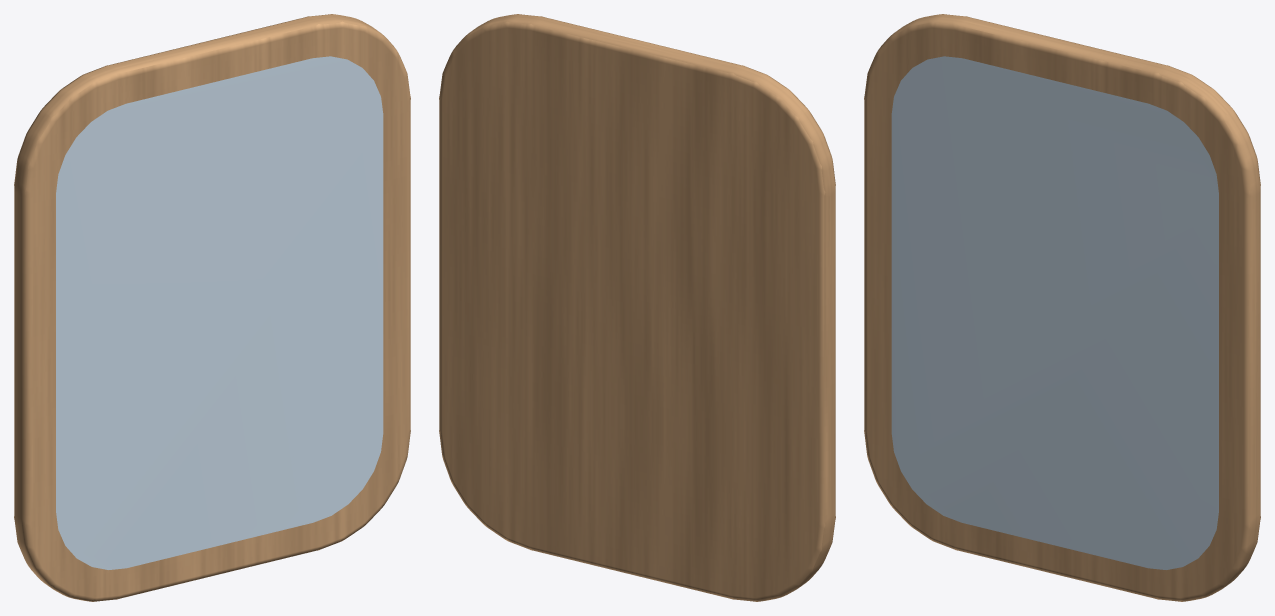
Rendered from prop_mirror.glb.
3 renders of one model, left to right at view 1: azimuth 30°, elevation 25°; view 2: azimuth 150°, elevation 25°; view 3: azimuth 330°, elevation 25°, orthographic.
Parts seen in each view (by area): view 1: prop_mirror; view 2: prop_mirror; view 3: prop_mirror.
Part boxes in pixels (left/top/right/bottom): prop_mirror: left=14, top=14, right=410, bottom=601; prop_mirror: left=439, top=14, right=835, bottom=601; prop_mirror: left=864, top=14, right=1260, bottom=601.
Size of the model in its own units: 0.625 by 0.8125 by 0.04.
Materials: 2 (1 with a texture image).
